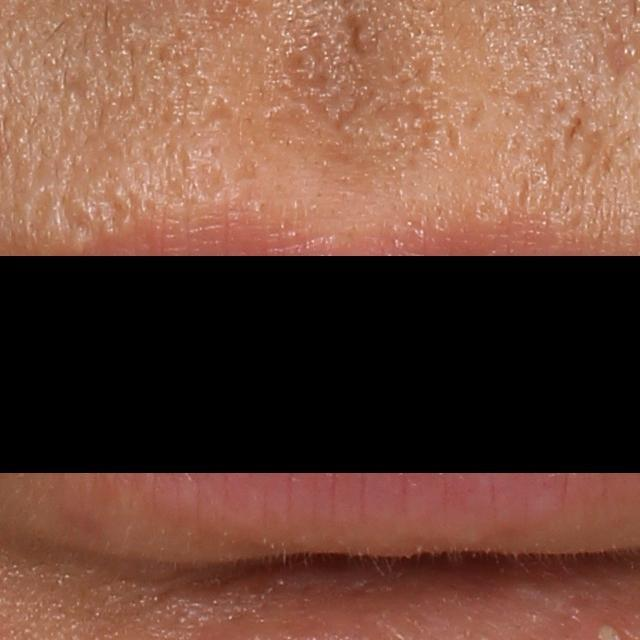atrophic_scar: (331, 80, 380, 129), (193, 156, 232, 207), (343, 12, 376, 68), (199, 91, 244, 129), (23, 186, 56, 236), (560, 109, 592, 152), (407, 51, 439, 93), (443, 120, 466, 153)
